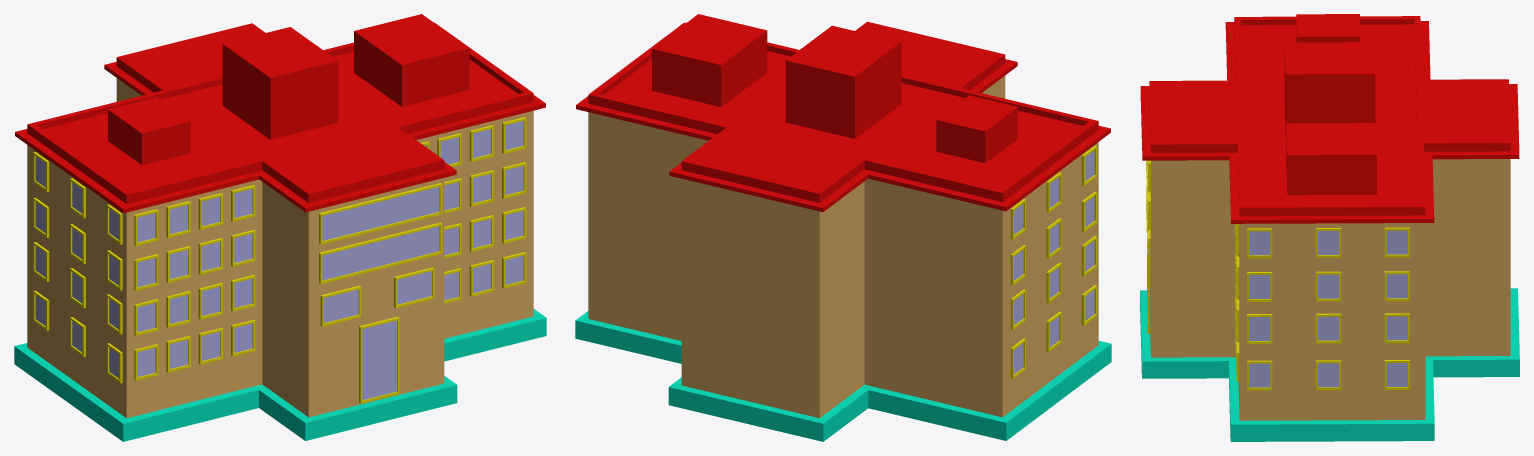
The model's file is redRoof.fbx.
3 renders of one model, left to right at view 1: azimuth 30°, elevation 25°; view 2: azimuth 150°, elevation 25°; view 3: azimuth 270°, elevation 25°, orthographic. The views are drawn at different scales.
Parts seen in each view (by area): view 1: crossMansion3; view 2: crossMansion3; view 3: crossMansion3.
Part boxes in pixels (x1,y1,x2,y2): crossMansion3: (14,14,546,441); crossMansion3: (575,14,1111,441); crossMansion3: (1140,14,1519,441).
Bounding box in the file's own units: 1344 × 892 × 1082.
